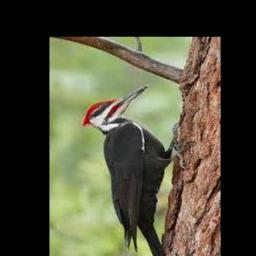Woodpecker: (82, 85, 192, 256)
